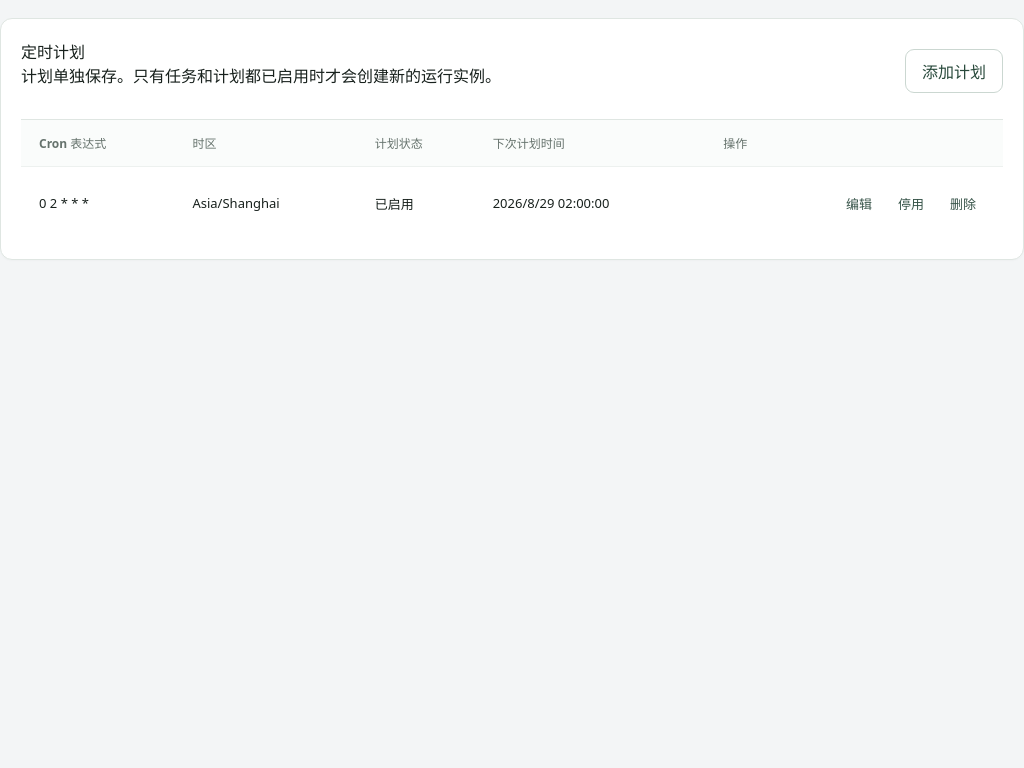
Test: 读取既有计划并保存编辑、停用和删除结果
Expected: the text "0 2 * * *" is shown, [21,166,180,239]
Click the button with aria-label "编辑计划 0 2 * * *" at (859, 203), box [837,181,881,225]
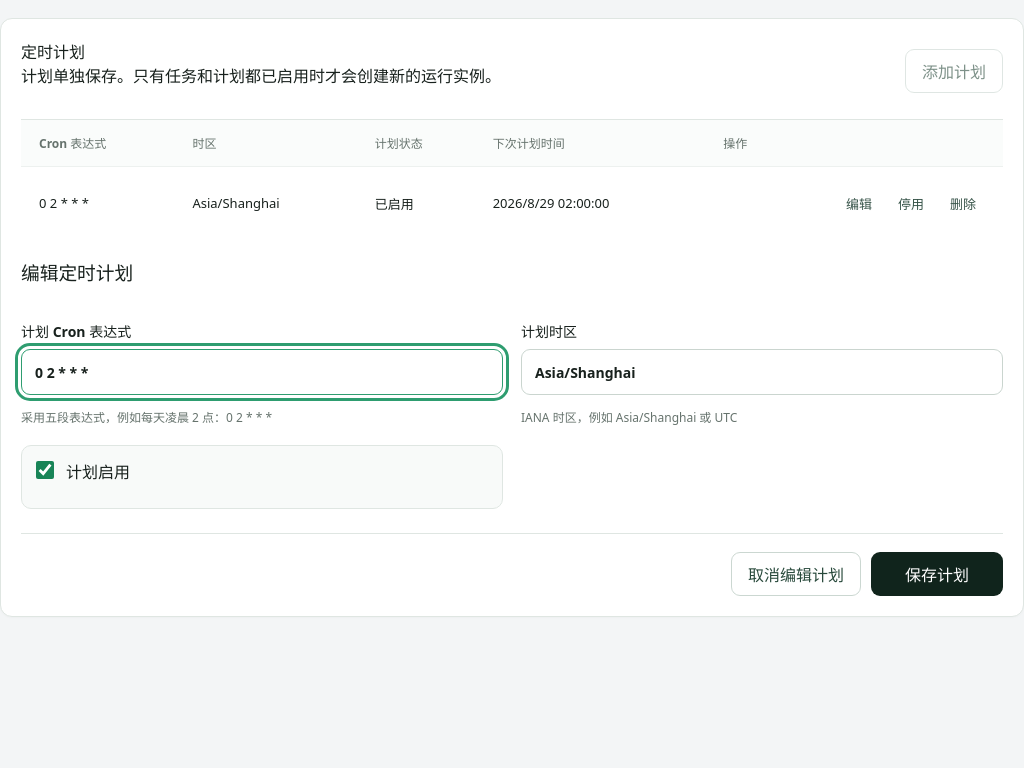
Now the field labelled "计划 Cron 表达式" holds "0 2 * * *"
Replace the text in the field labelled "计划 Cron 表达式" with "0 3 * * *" at (262, 372), box [21,349,503,395]
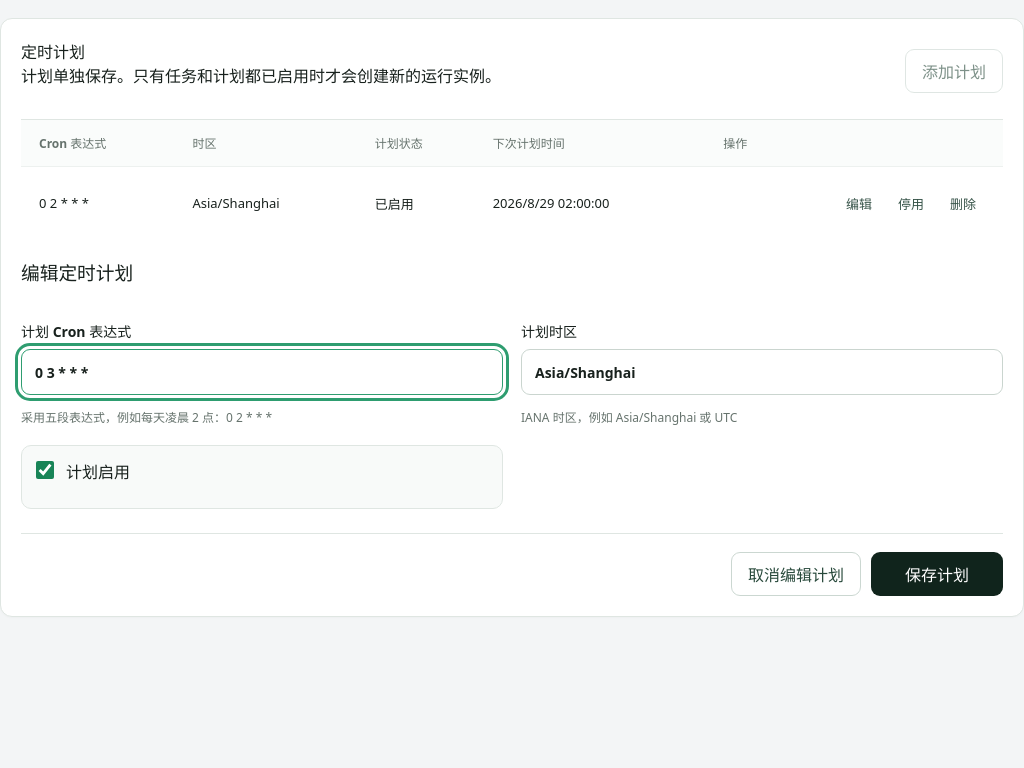
Click the button "保存计划" at (937, 574), box [871,552,1003,596]
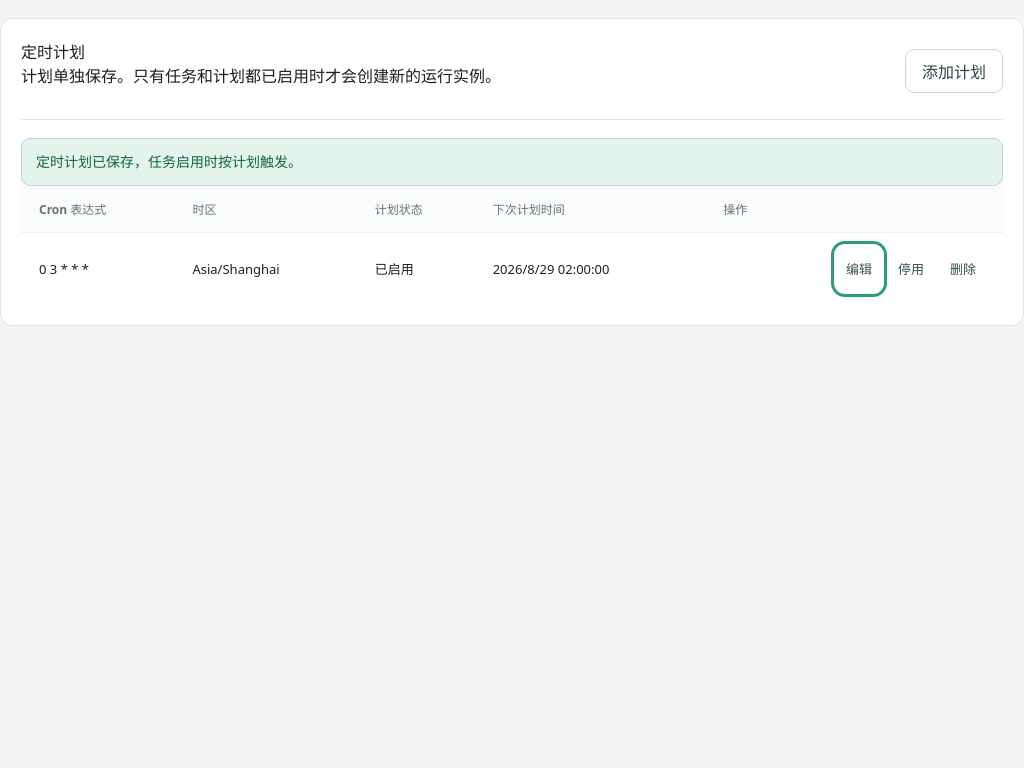
Now the text "0 3 * * *" is shown, box [21,232,180,305]
Click the button with aria-label "停用计划 0 3 * * *" at (911, 269), box [889,247,933,291]
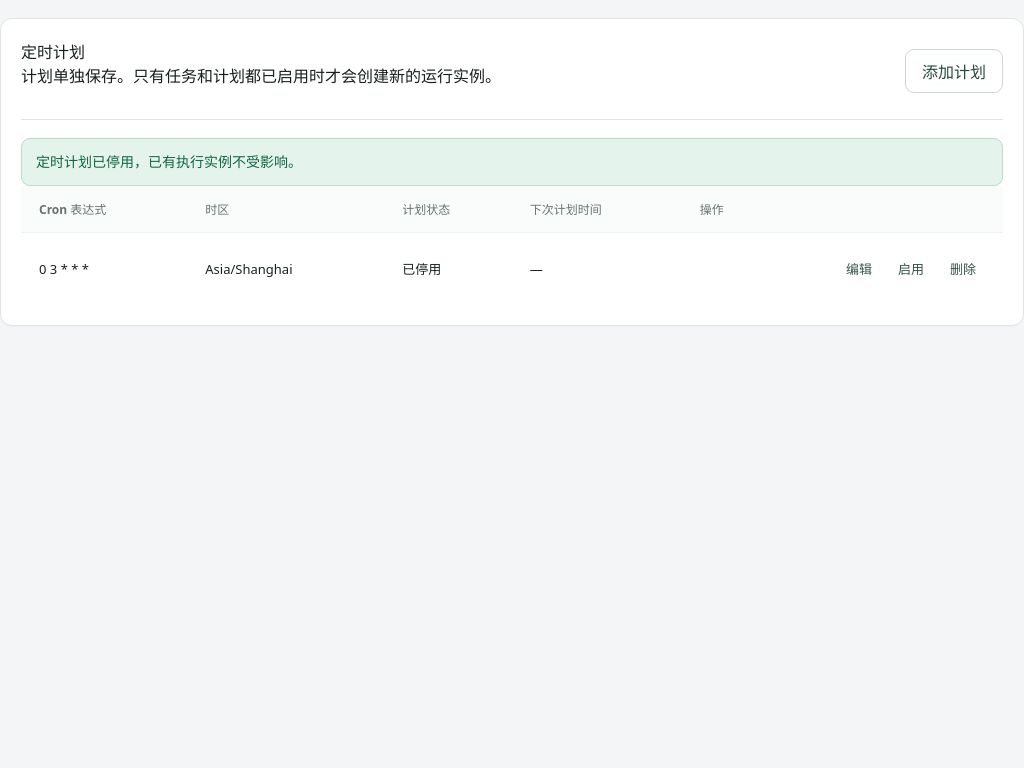
Now the text "已停用" is shown, box [390,232,518,305]
Click the button with aria-label "删除计划 0 3 * * *" at (963, 269), box [941,247,985,291]
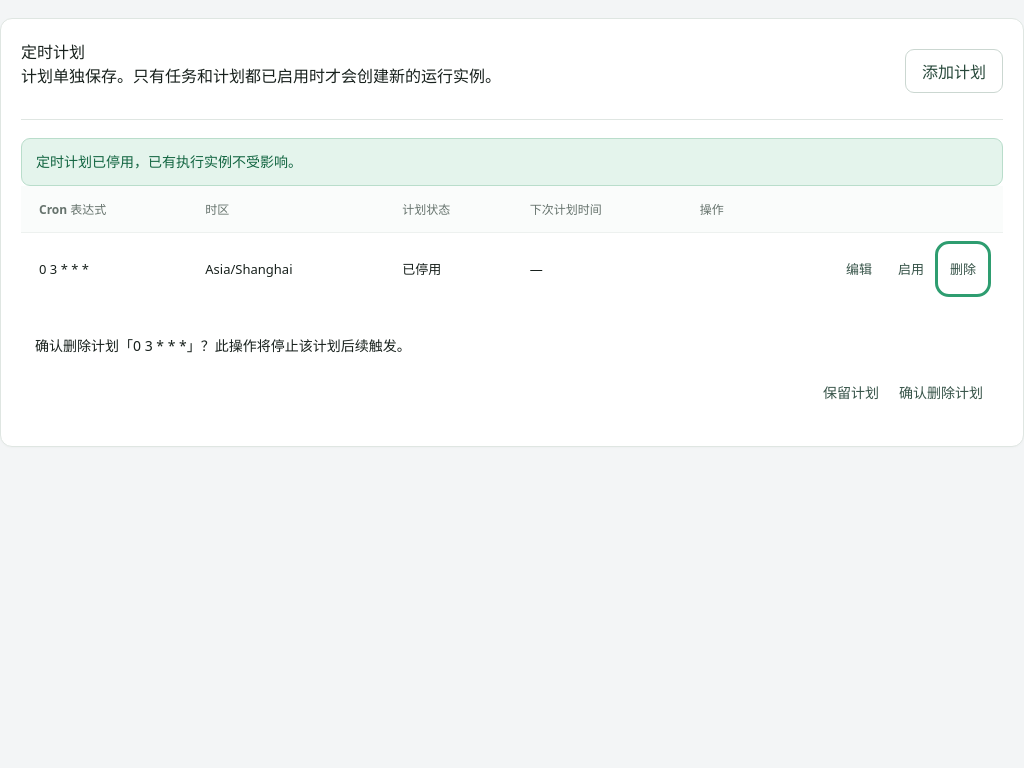
Click the button "确认删除计划" at (941, 392), box [893,370,989,414]
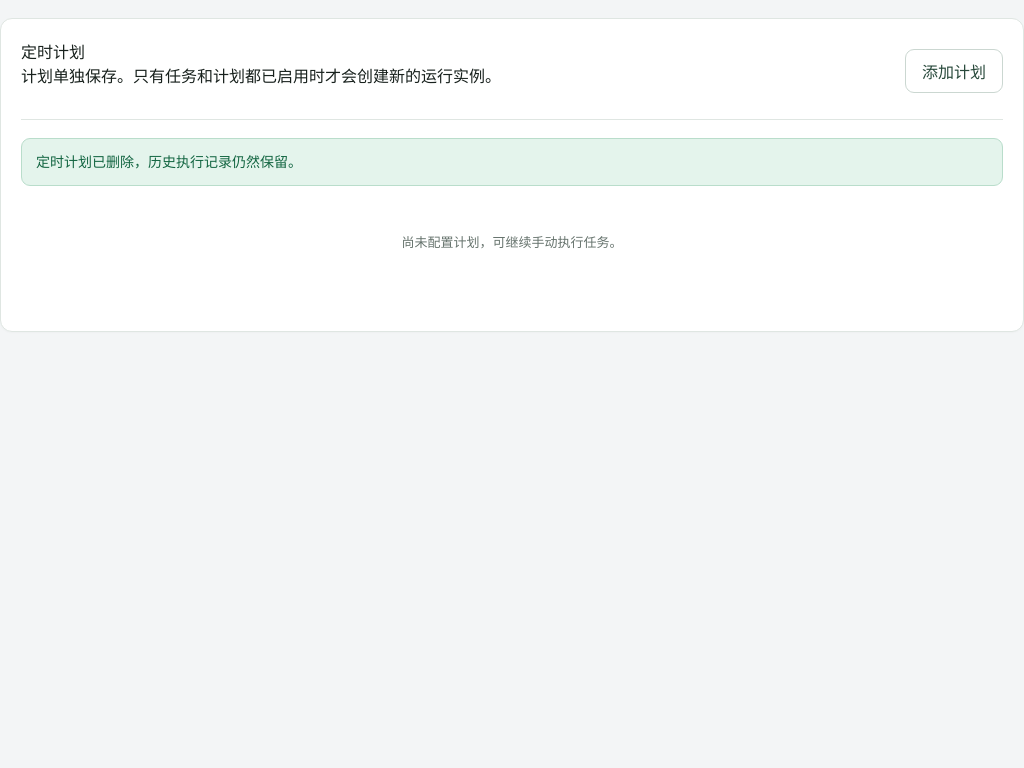
Now the text "尚未配置计划，可继续手动执行任务。" is shown, box [402,233,622,251]
